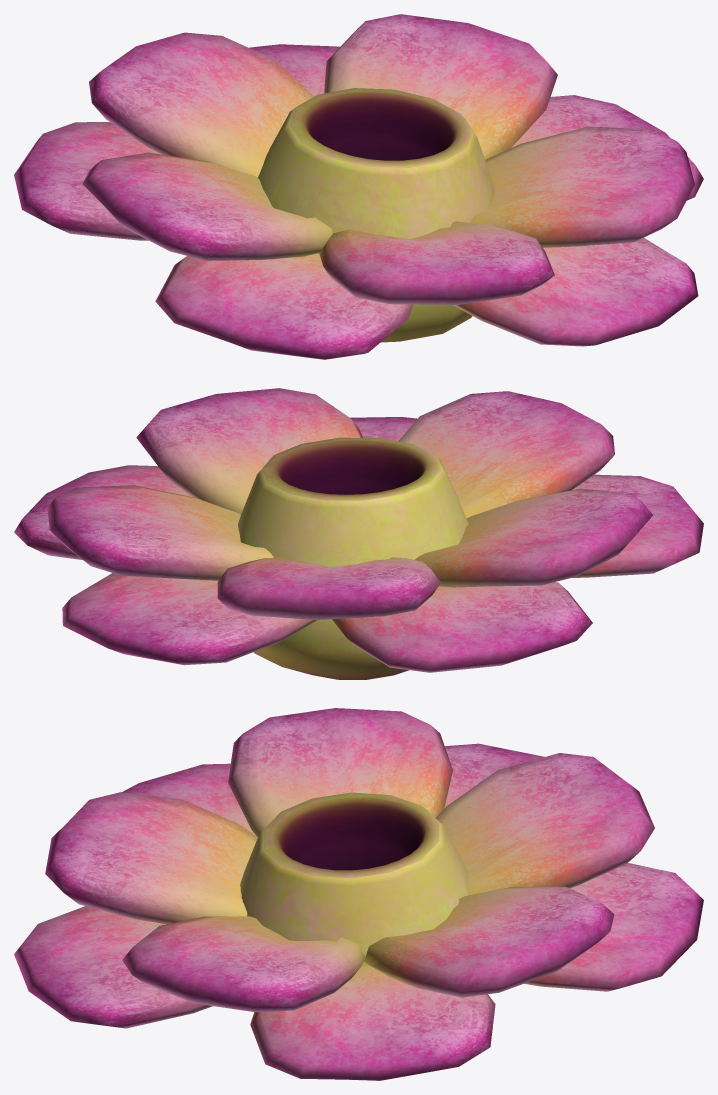
Rendered from vileplume_flower.fbx.
3 renders of one model, top to bottom at view 1: azimuth 30°, elevation 25°; view 2: azimuth 150°, elevation 25°; view 3: azimuth 270°, elevation 25°, orthographic. The views are drawn at different scales.
Visible parts, largest first — view 1: polySurface125; view 2: polySurface125; view 3: polySurface125.
Part boxes in pixels (<box>): polySurface125: <box>14,14,703,359</box>; polySurface125: <box>14,388,703,679</box>; polySurface125: <box>14,708,703,1080</box>.
Bounding box in the file's own units: 38.42 × 12.23 × 39.1.
